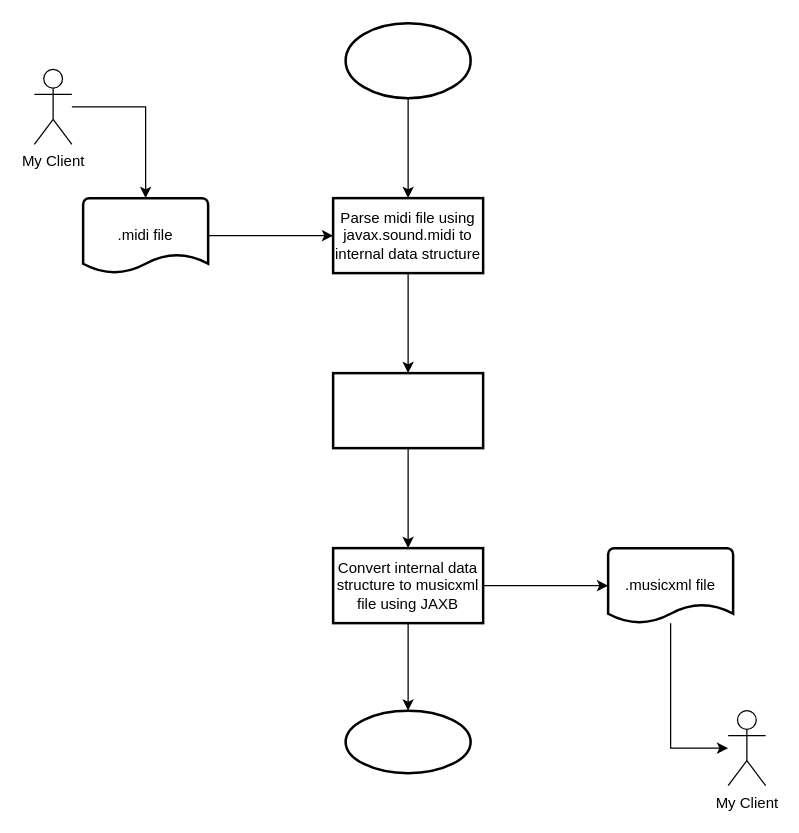
The diagram is 799 pixels wide and 833 high, and some of its shapes have lost their labels. The shapes that lost their labels are listed below. From the top down, each one's centre as x and y in pixels, then its label:
At point 407,60: "Start".
At point 407,410: "Process parsed data to change the visuals of the score".
At point 407,741: "End".
